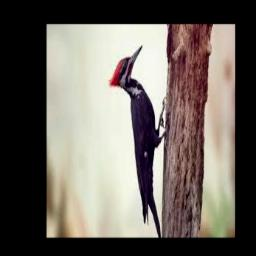Woodpecker: (109, 44, 167, 238)
